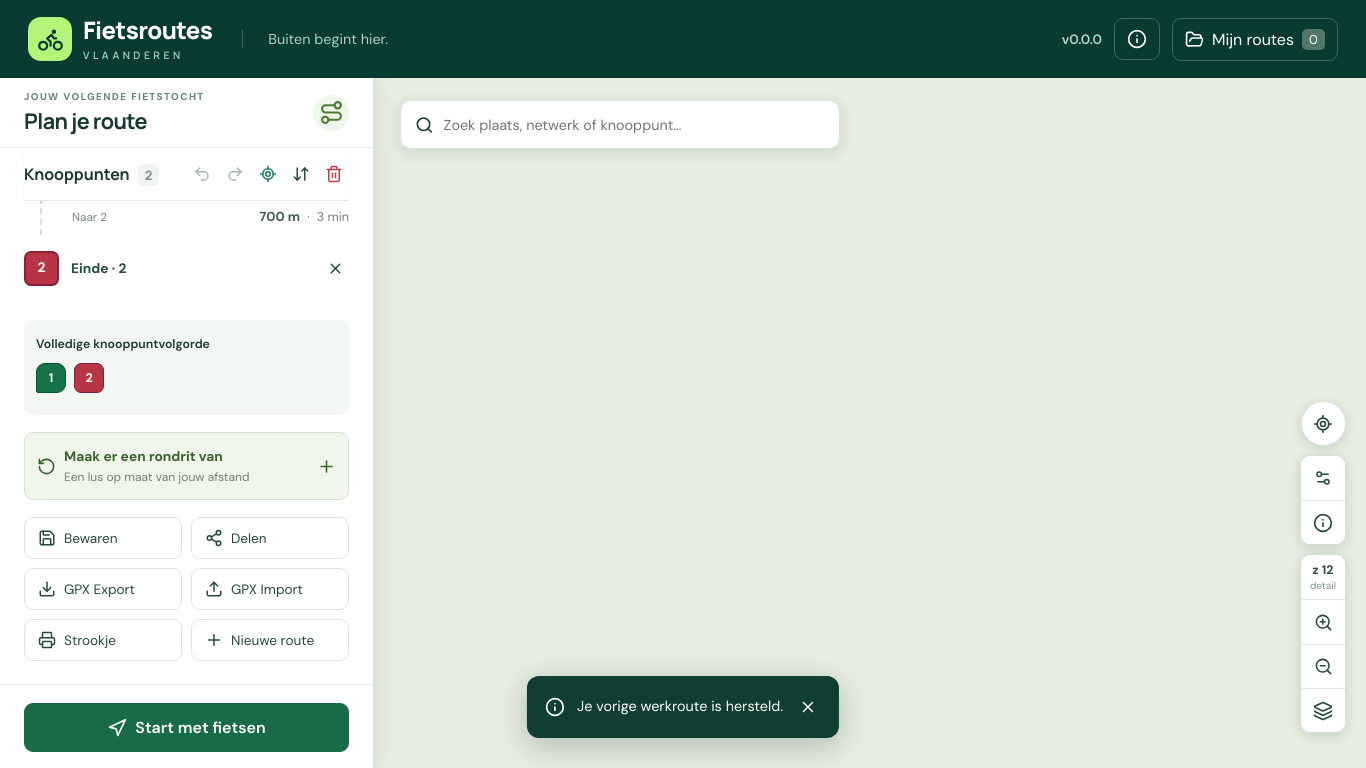
Test: bewaart het fietsprofiel voor het vervangen en markeert de geopende route
(page scrolled)
Click the button "Nieuwe route" at (270, 640), box [191,619,349,661]
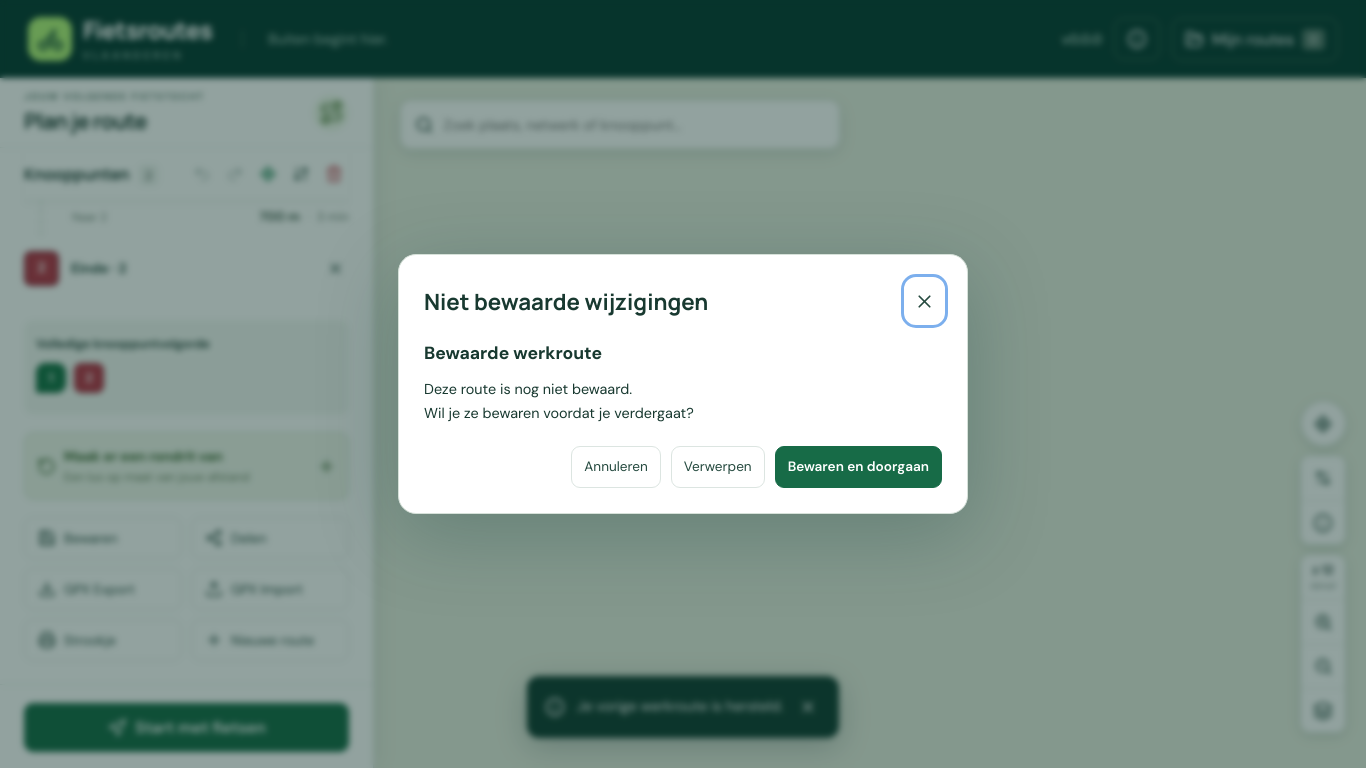
Click the button "Bewaren en doorgaan" at (858, 467), box [775,446,942,488]
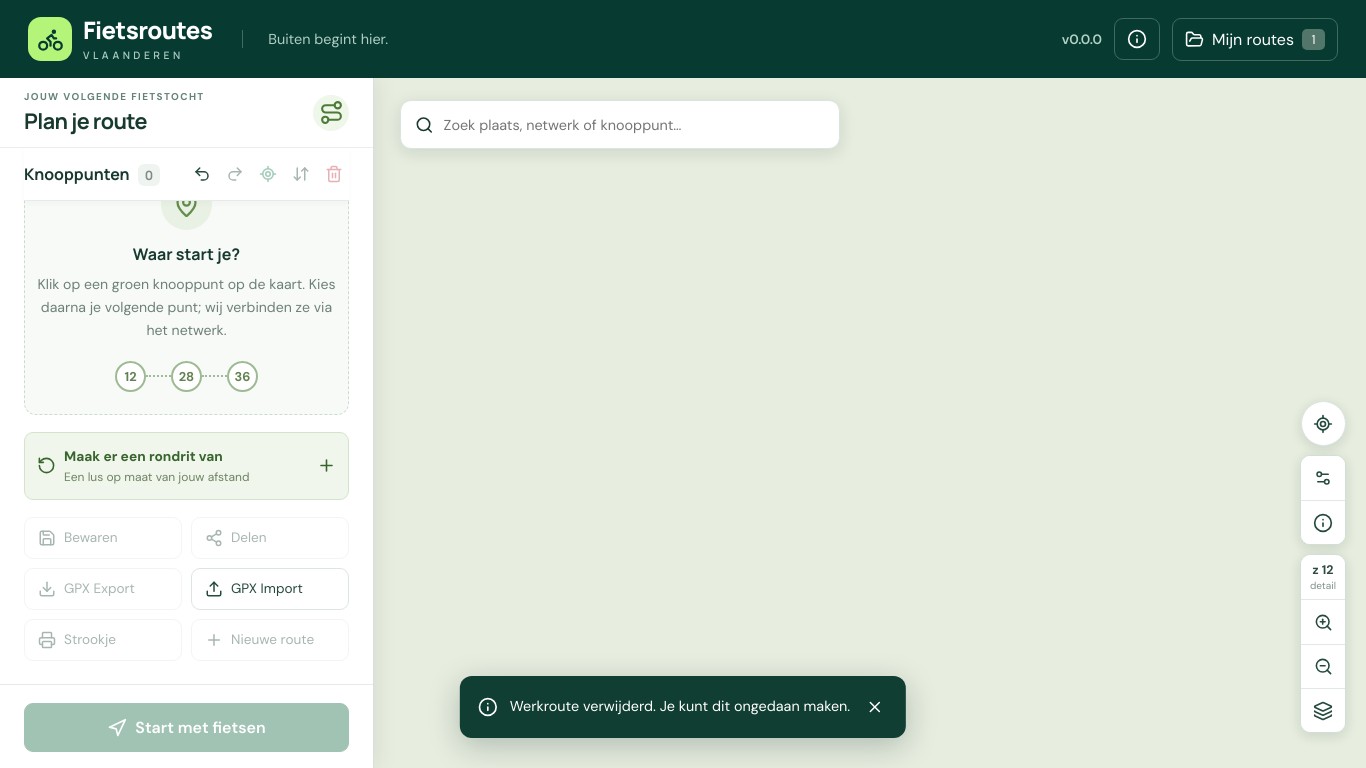
Click the button "Mijn routes 1" at (1255, 39), box [1172,18,1338,60]
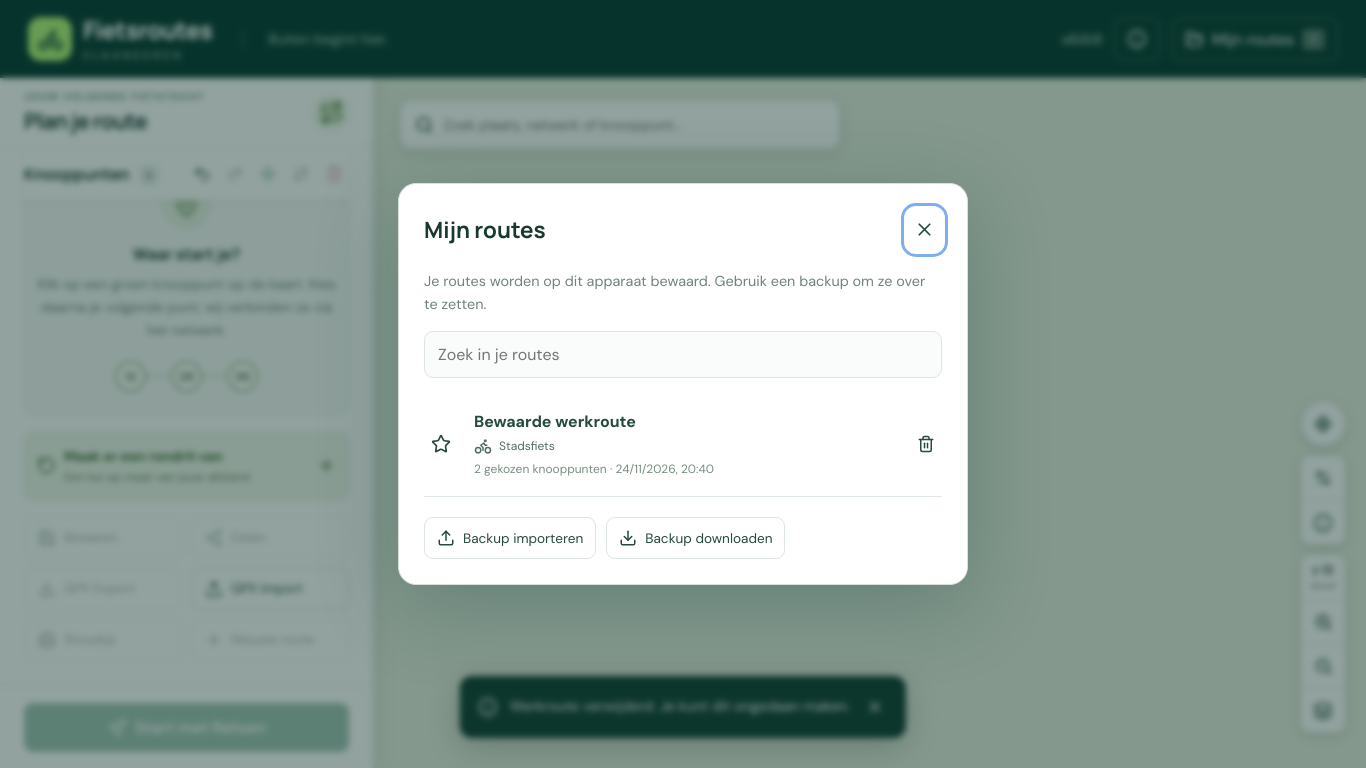
Click the button with class "library-open" at (555, 422), box [467,404,901,484]
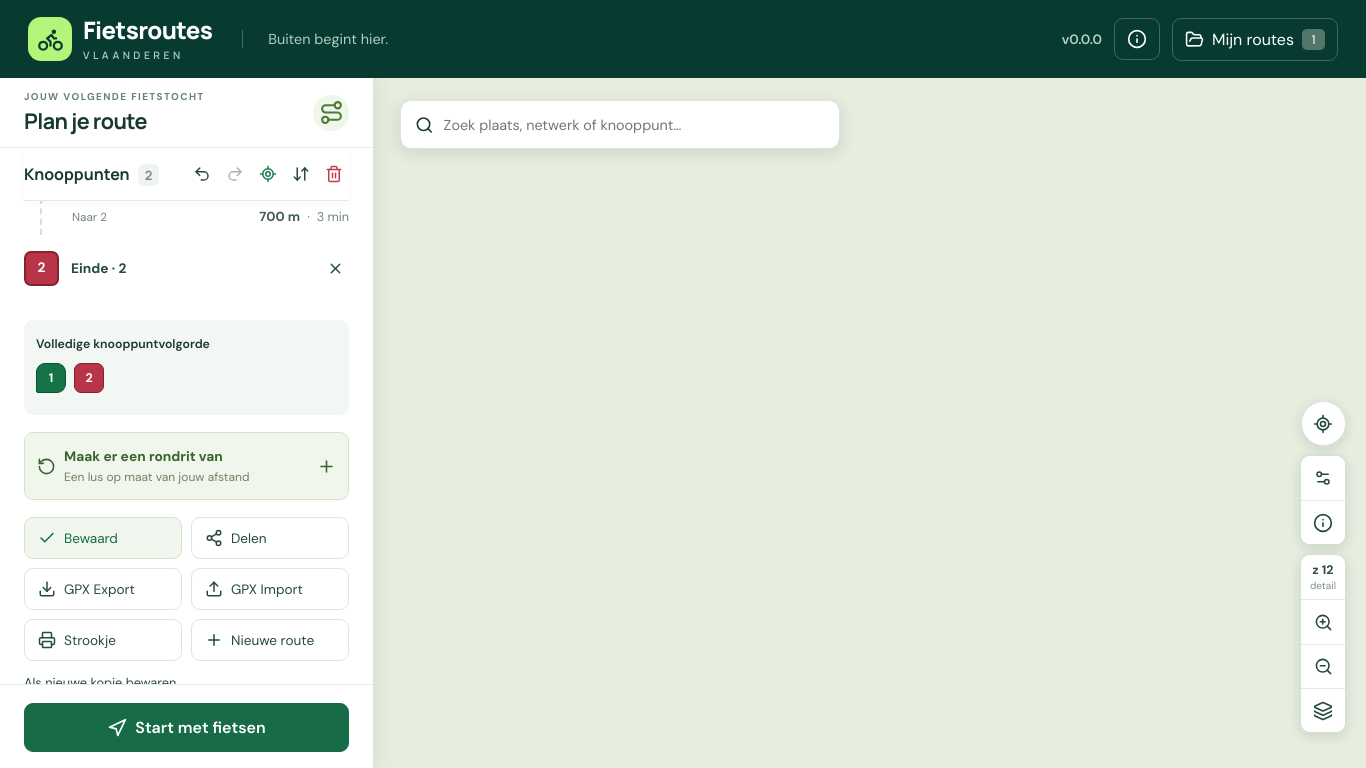
Result: the button "Bewaard" is disabled at [24,517,182,559]
Click the button "Mijn routes 1" at (1255, 39), box [1172,18,1338,60]
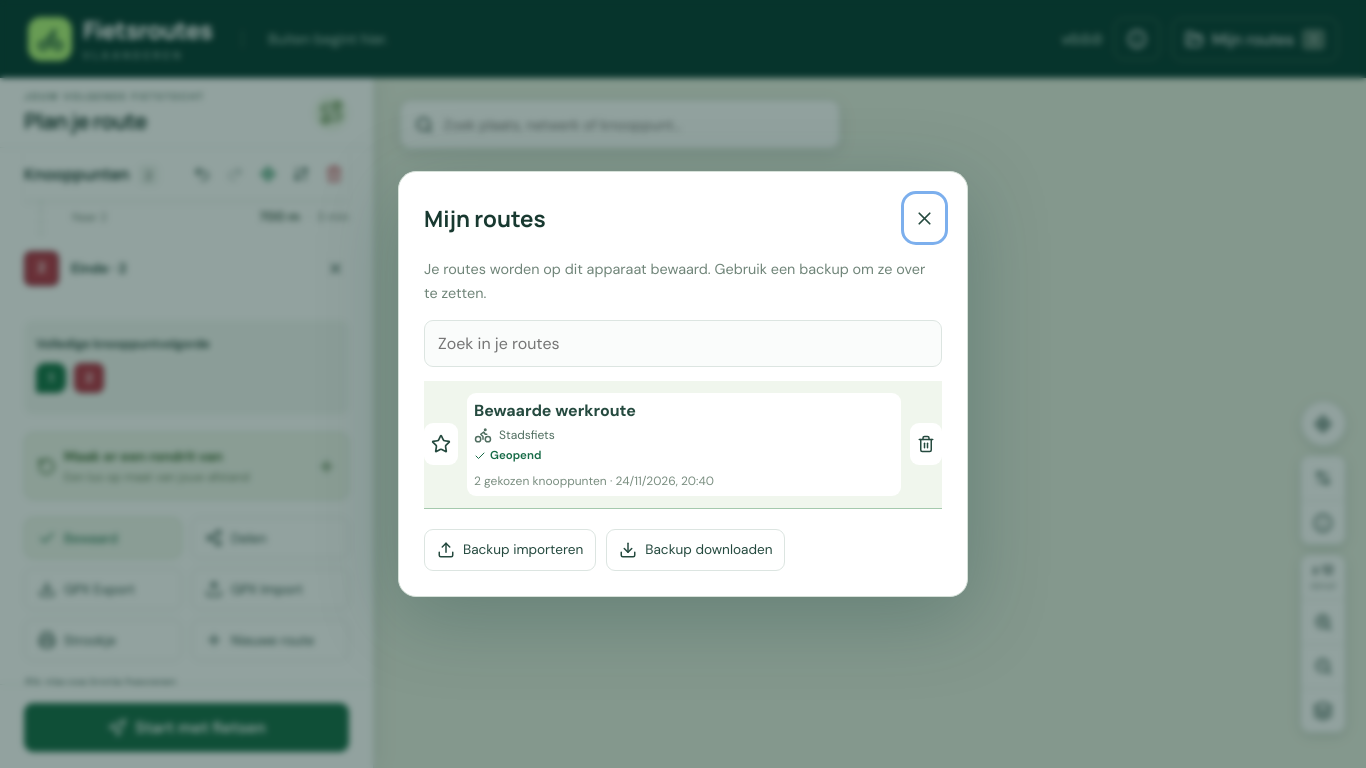
Result: the element with class "is-active" shows "Geopend" at [467,393,901,496]
Result: the element with class "library-bike-profile" reads "Stadsfiets" at [499,427,555,443]
